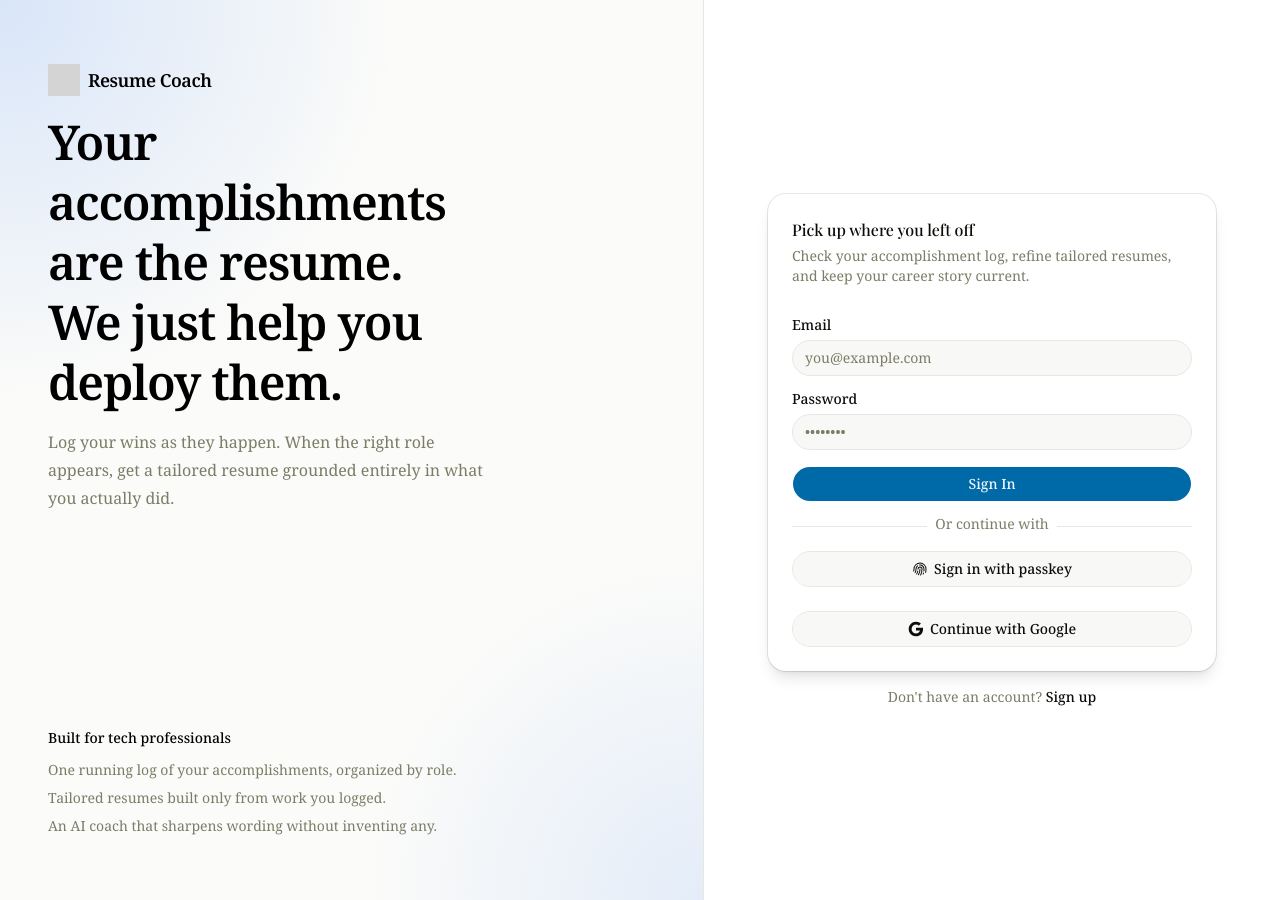
Test case: LoginPage › shows loading state during sign in
Type "test@example.com" into the field labelled "Email" at (992, 358), box 792,340 -> 1192,376
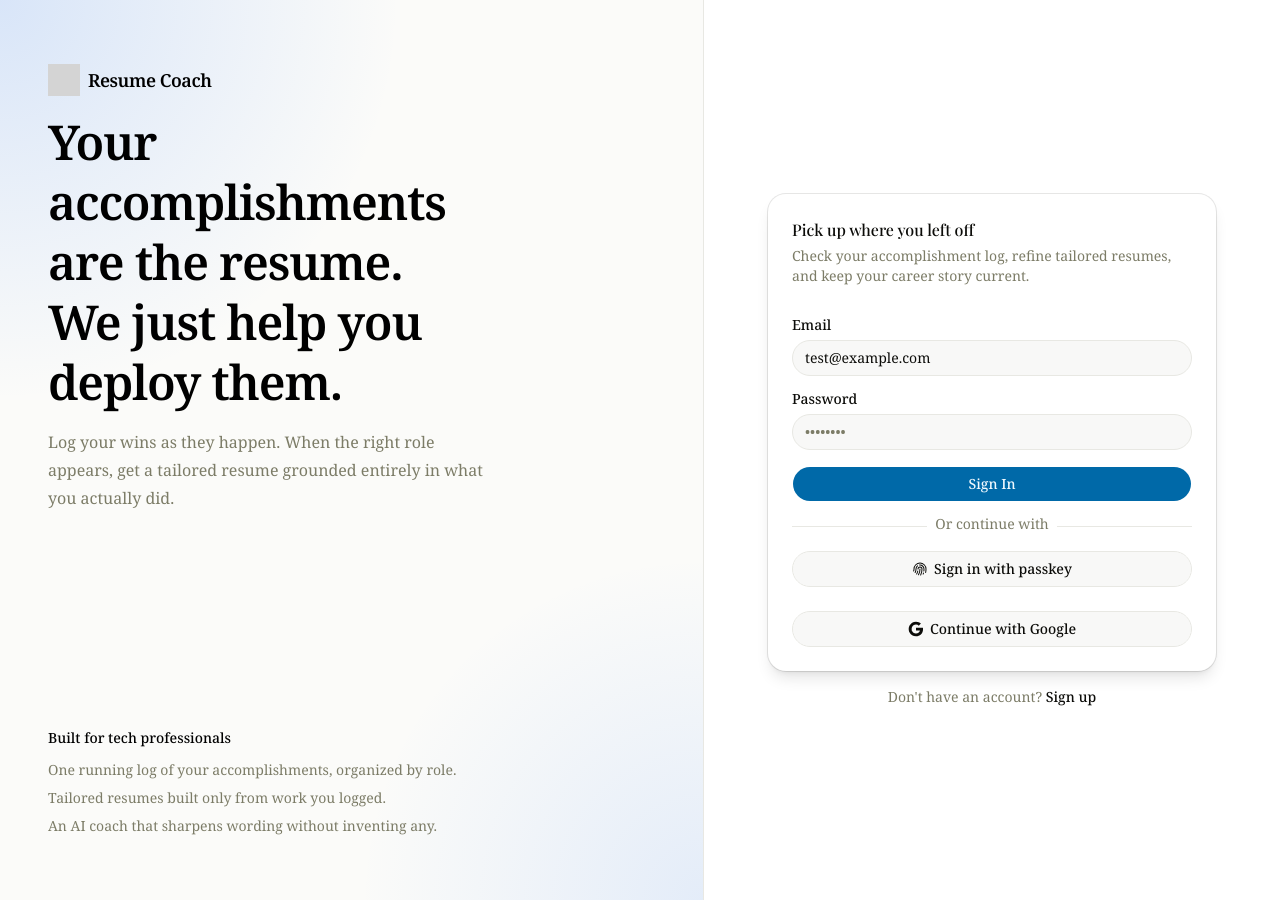
Type "password123" into the password field labelled "Password" at (992, 432), box 792,414 -> 1192,450
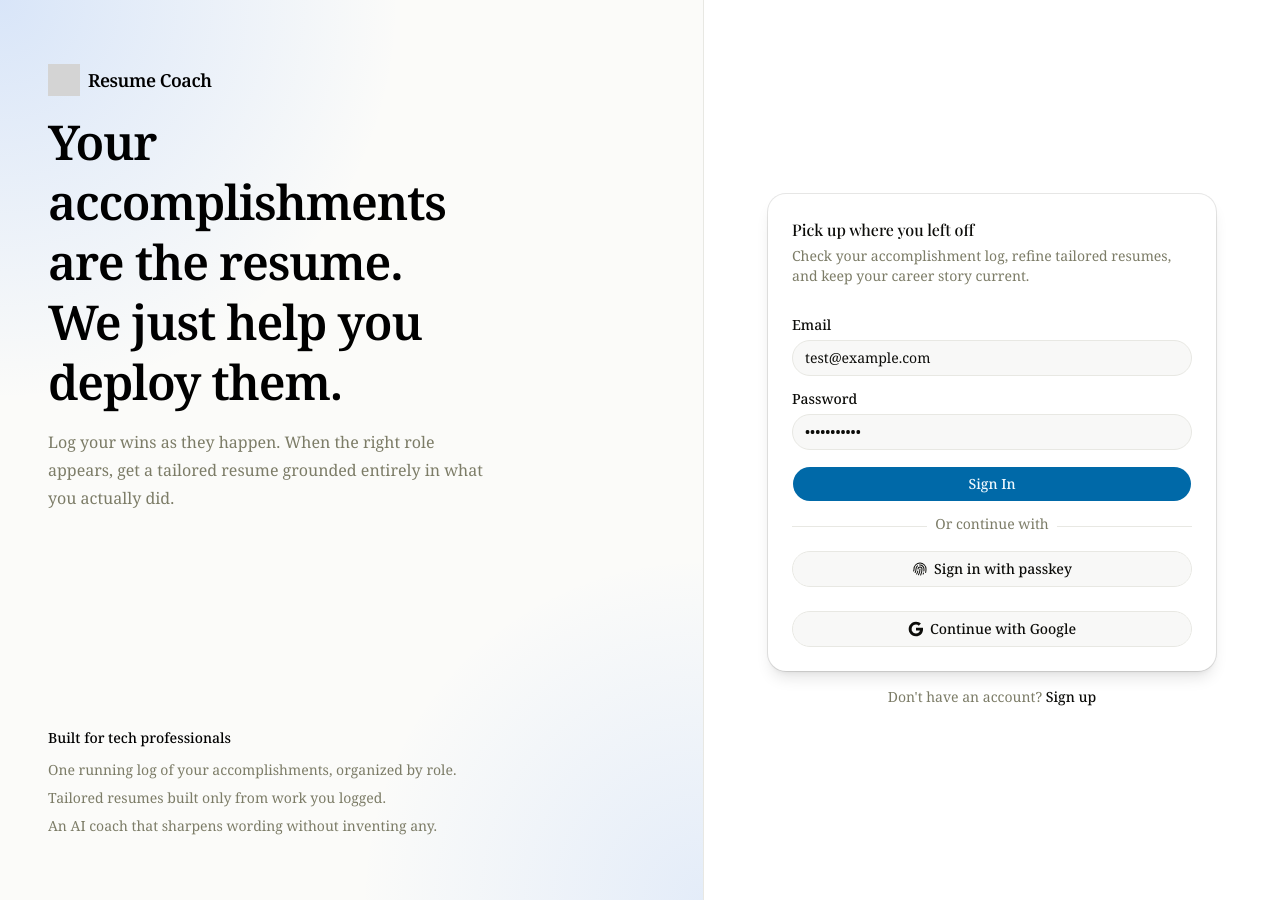
Click the button "Sign In" at (992, 484), box 792,466 -> 1192,502
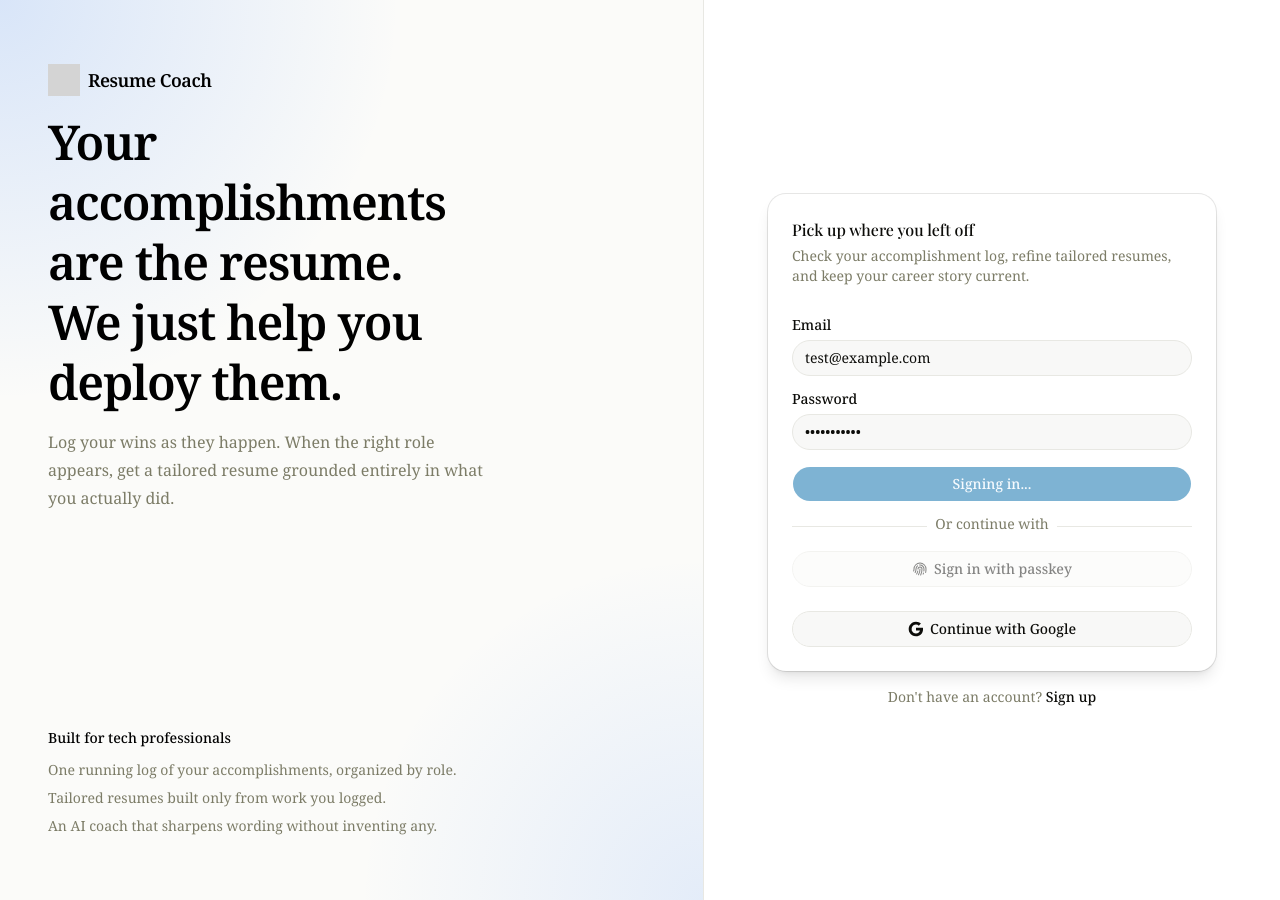
Result: the button "Signing in..." is disabled at 792,466 -> 1192,502
